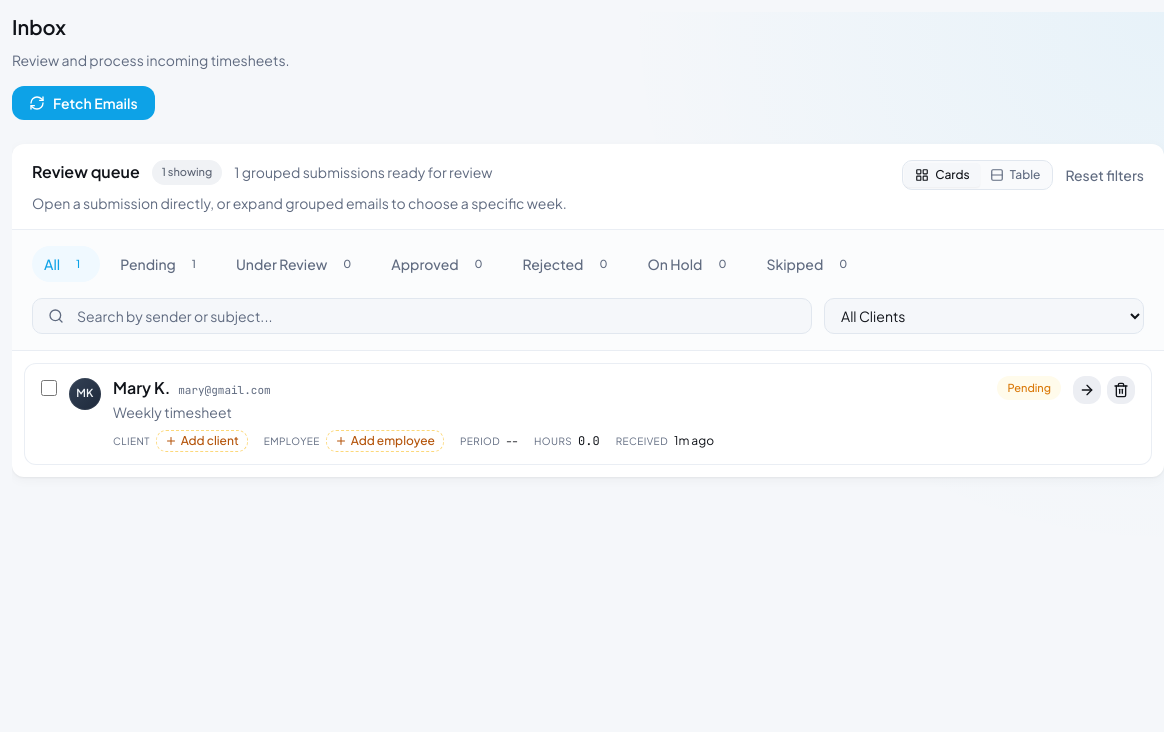
Test: InboxPage — inline picker editable create flow › reveals an editable name field prefilled with the AI suggestion when Create is clicked
# Open the inline picker via the "+ Add client" dashed-outline button.
Click the button "Add client". click: click(202, 440)
box: x1=156 y1=430 x2=248 y2=452
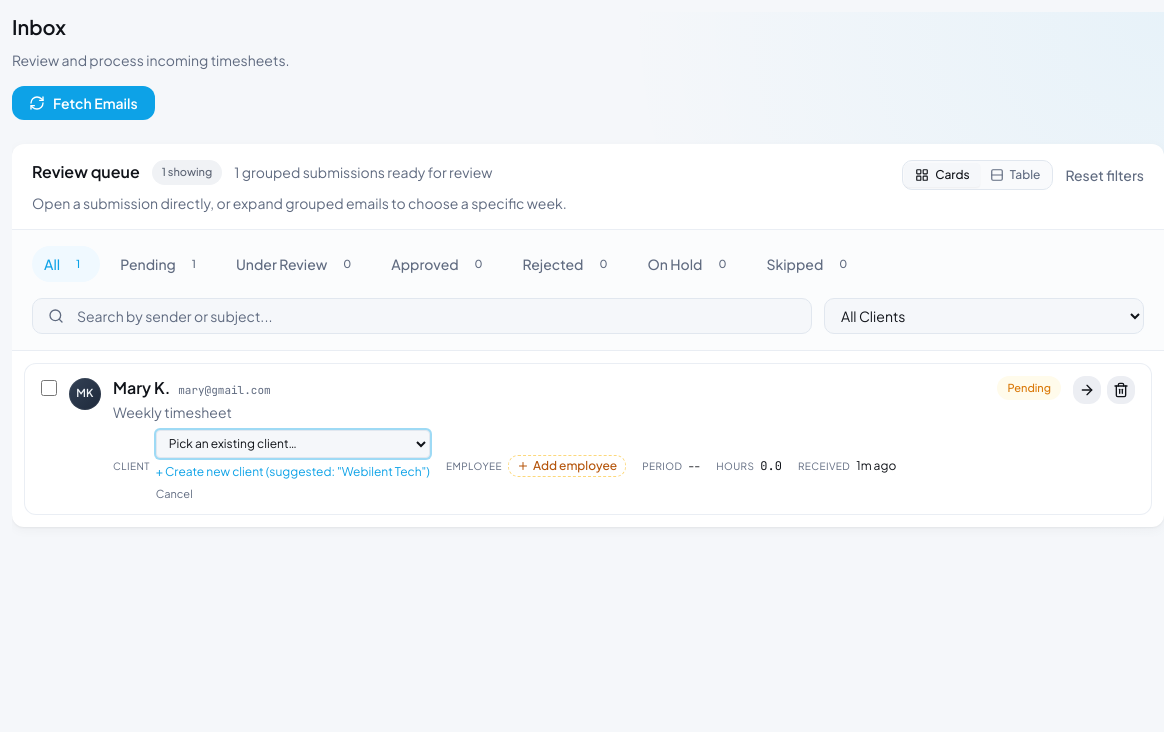
# Click the suggestion-create button — should NOT call the mutation yet.
Click the button "+ Create new client (suggested: \"Webilent Tech\")". click: click(293, 472)
box: x1=156 y1=464 x2=430 y2=480
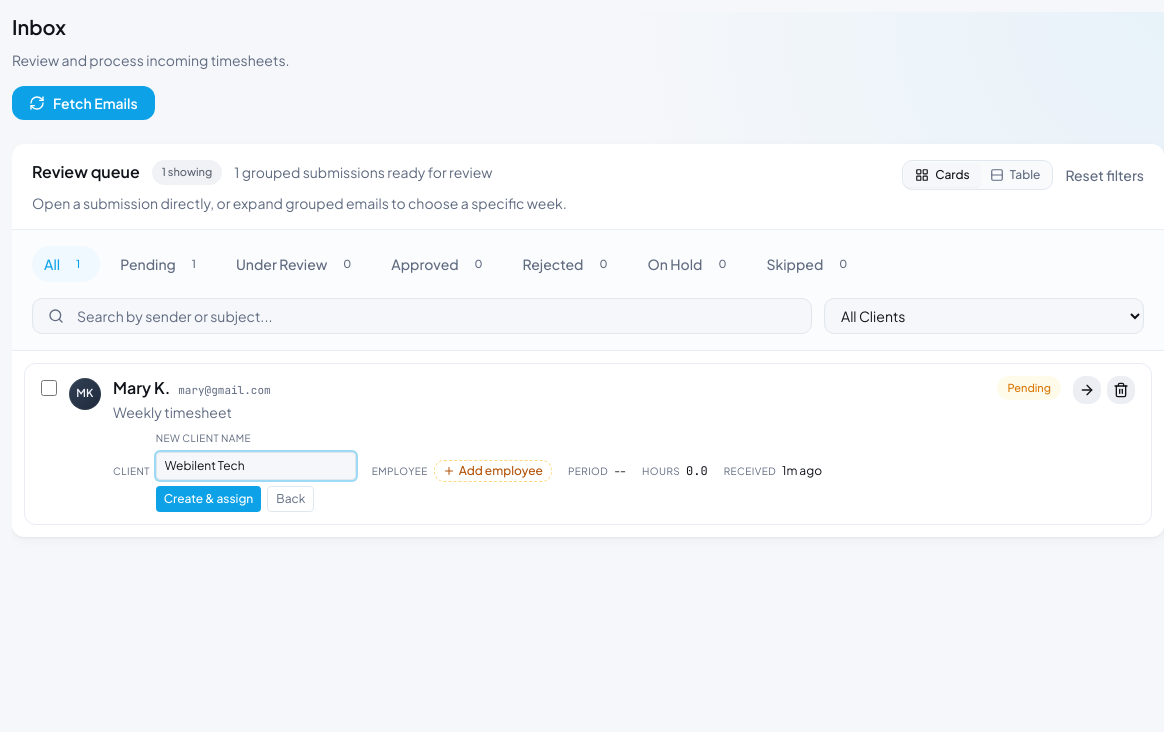
Now the field with placeholder "Client name" holds "Webilent Tech", box x1=156 y1=452 x2=356 y2=480
Now the button "Create & assign" is shown, box x1=156 y1=486 x2=261 y2=512
Now the button "Back" is shown, box x1=267 y1=486 x2=314 y2=512
